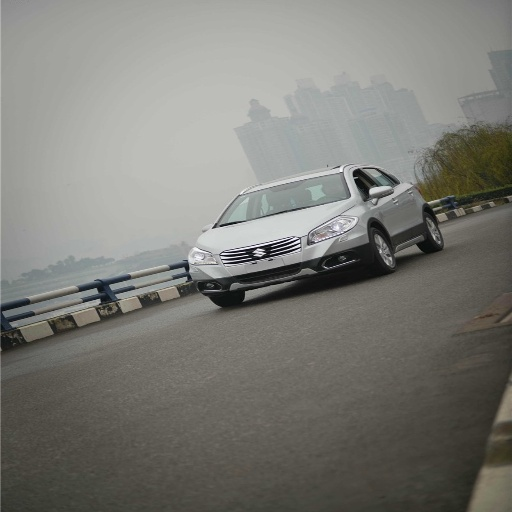front_bumper: (198, 245, 260, 303)
front_glass: (221, 177, 341, 223)
